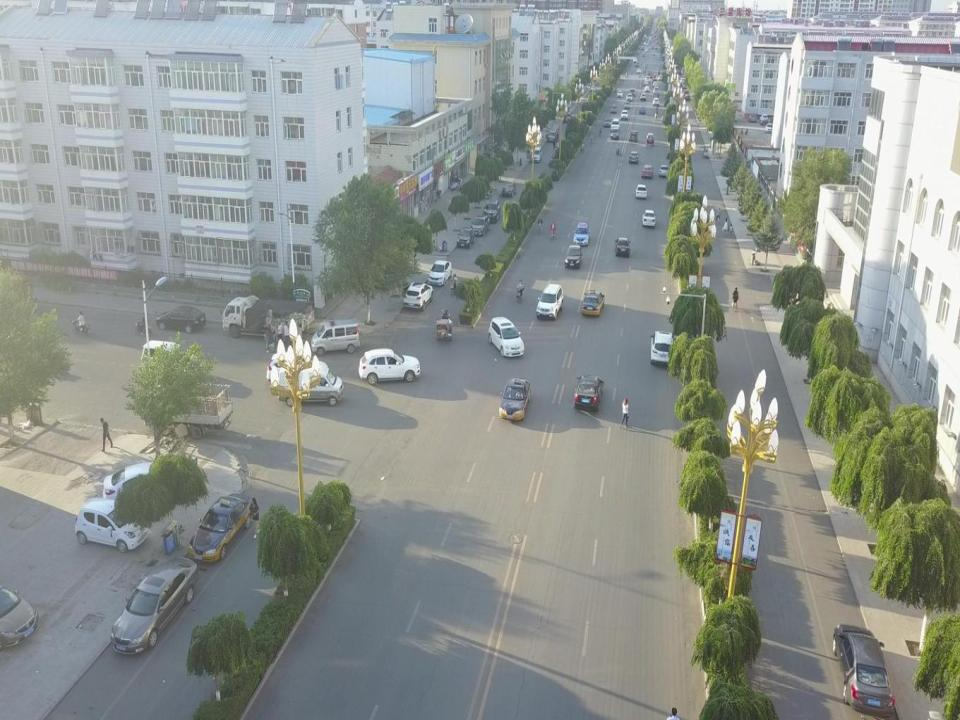car: (110, 557, 198, 654), (832, 623, 895, 714), (188, 492, 257, 563), (103, 462, 198, 507), (74, 496, 150, 552), (358, 348, 420, 384), (266, 352, 328, 384), (488, 316, 524, 357), (500, 377, 531, 420), (155, 306, 206, 331), (573, 375, 604, 413), (536, 283, 564, 320), (650, 330, 675, 364), (403, 282, 433, 310), (427, 260, 452, 285), (581, 290, 604, 315), (573, 222, 590, 246), (456, 227, 476, 247), (470, 215, 490, 235), (564, 245, 582, 267), (483, 199, 500, 222), (614, 236, 631, 256), (501, 182, 517, 198), (642, 210, 656, 226), (635, 184, 647, 198), (642, 165, 654, 179), (629, 150, 639, 164), (659, 164, 669, 177), (546, 130, 556, 142), (629, 129, 638, 142), (603, 117, 613, 127), (610, 128, 619, 139), (620, 110, 629, 120), (765, 123, 774, 132), (760, 113, 768, 123), (563, 112, 571, 122), (610, 104, 618, 113), (748, 114, 756, 122), (652, 98, 660, 106), (625, 93, 632, 102), (639, 106, 646, 114), (617, 90, 623, 98), (640, 93, 646, 101), (624, 101, 630, 109), (630, 88, 635, 97), (590, 85, 596, 92), (644, 86, 649, 92)
truck: (144, 382, 232, 439), (222, 294, 313, 346)
van: (277, 365, 344, 406), (140, 340, 200, 383), (310, 317, 360, 356), (527, 146, 542, 163), (610, 118, 620, 130), (646, 132, 654, 146), (653, 87, 659, 95)
